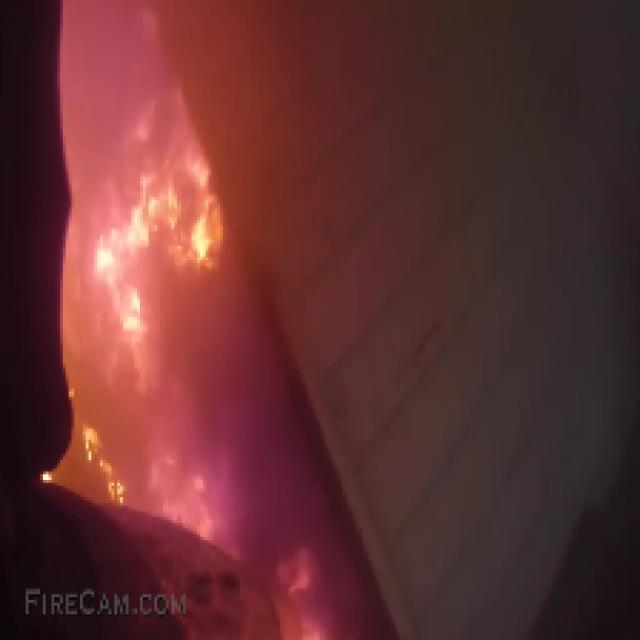Fire: (39, 3, 334, 640)
Smoke: (188, 3, 632, 506)
